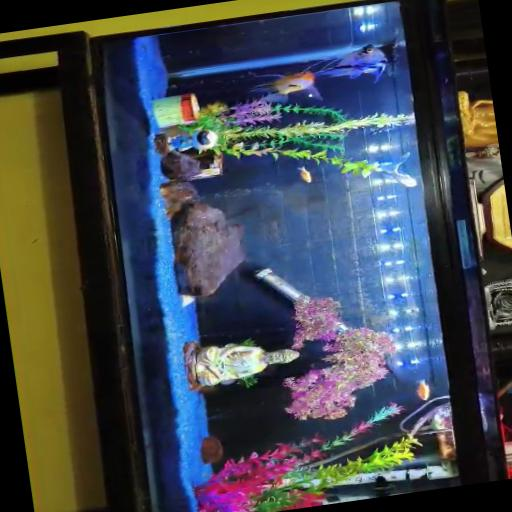Fish: (312, 45, 387, 82), (250, 71, 321, 103), (378, 152, 416, 187), (416, 381, 430, 400), (297, 167, 311, 182)
